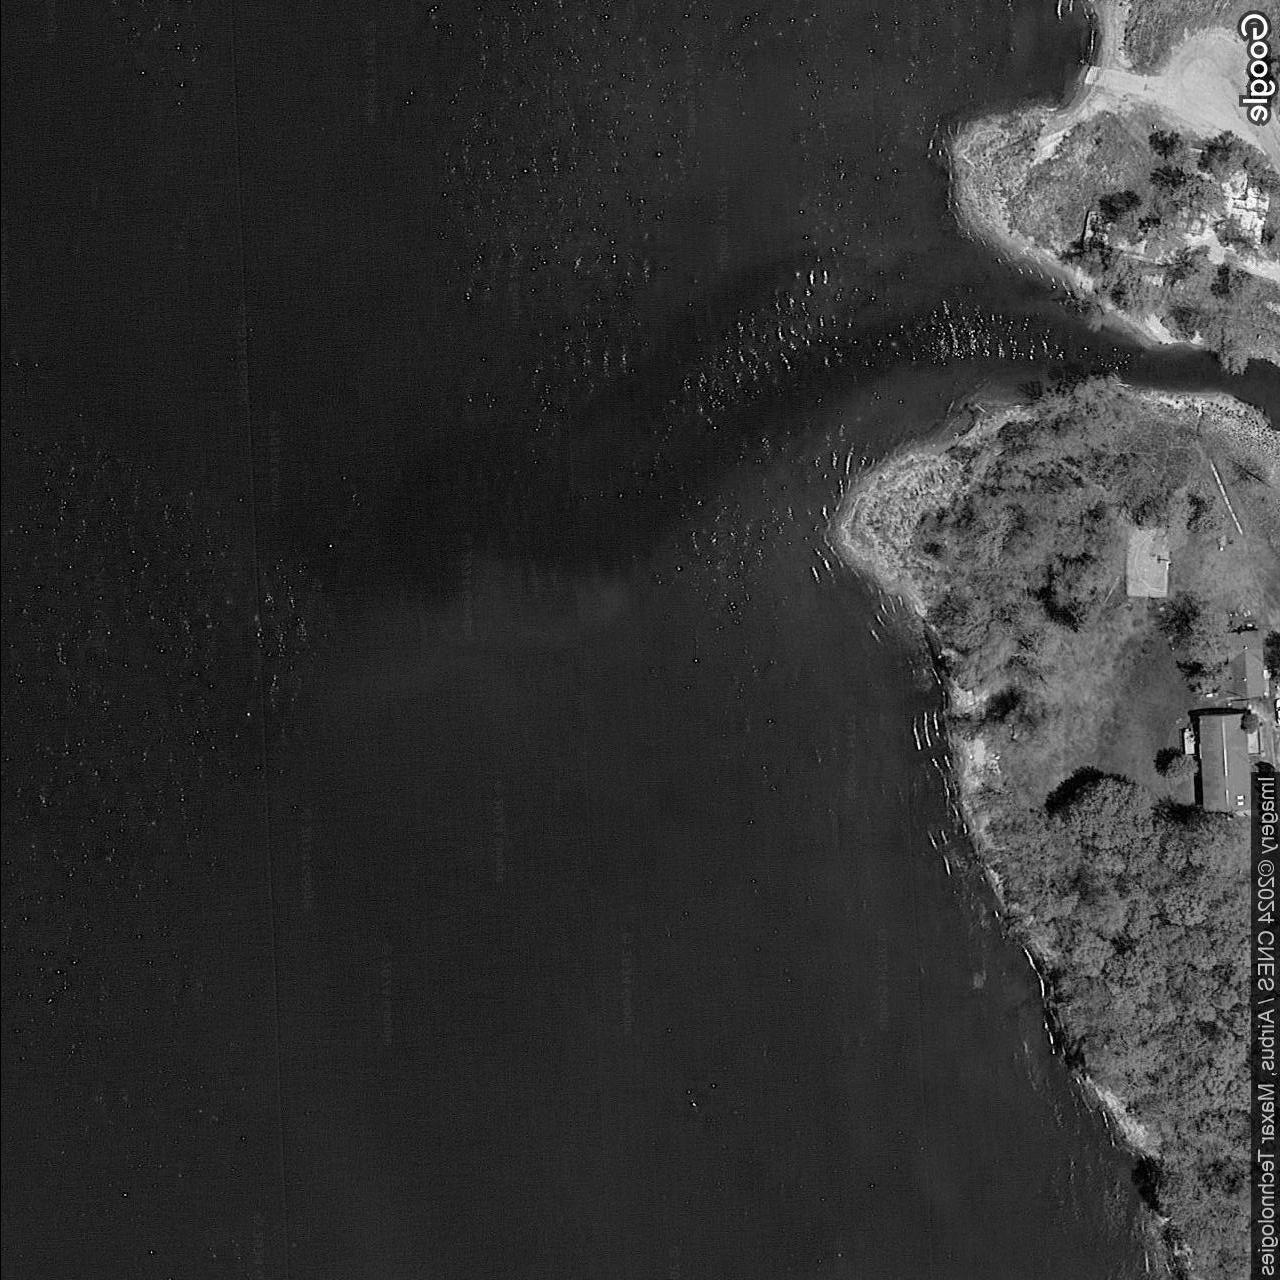House: (1197, 714, 1252, 812), (1221, 629, 1269, 700)
